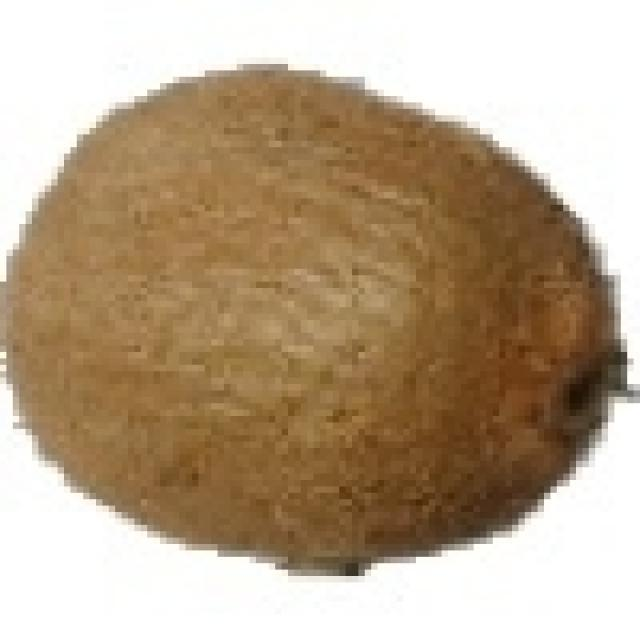kiwi: (0, 58, 602, 557)
